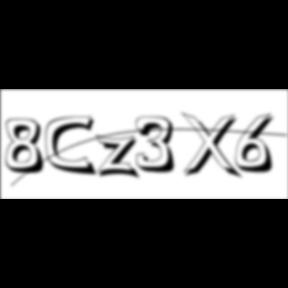3: (136, 116, 182, 176)
6: (236, 112, 280, 176)
8: (6, 117, 50, 176)
C: (46, 115, 100, 178)
X: (181, 112, 245, 182)
z: (96, 134, 144, 182)
